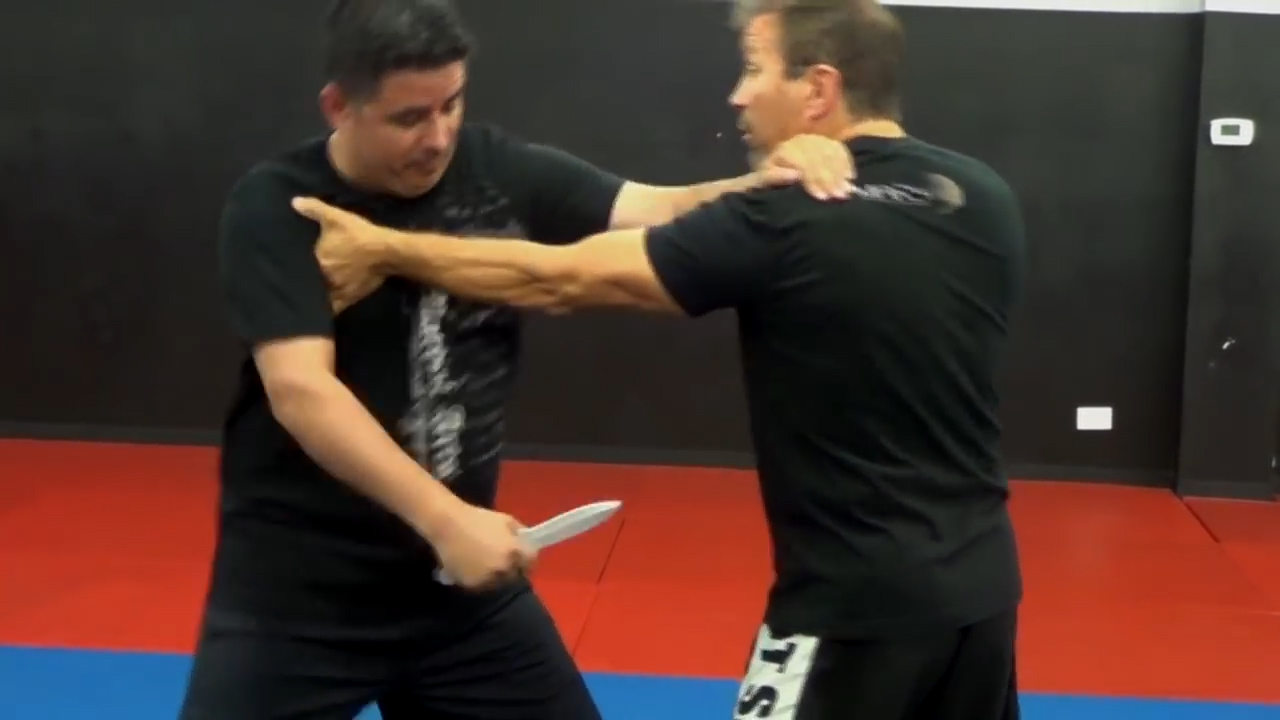knife: (430, 488, 630, 595)
